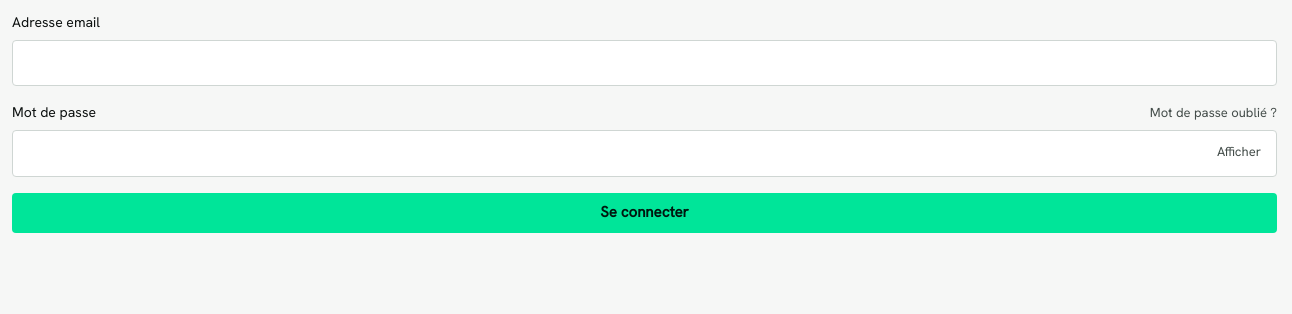
Test: LoginForm › affiche le message traduit quand les identifiants sont faux
Type "aminata.ouedraogo@example.com" into the field labelled "Adresse email".
click(644, 63); type("aminata.ouedraogo@example.com")  # box [12, 40, 1277, 86]
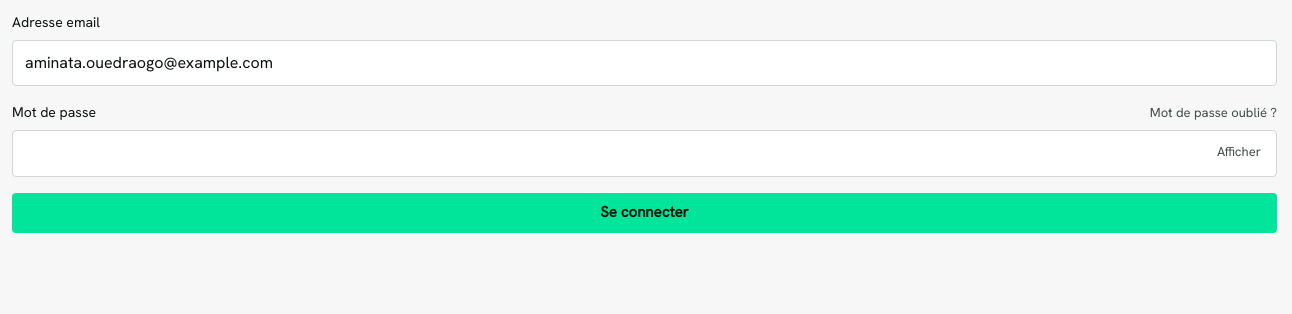
Type "faux-mot-de-passe1" into the password field labelled "Mot de passe".
click(644, 154); type("faux-mot-de-passe1")  # box [12, 130, 1277, 177]
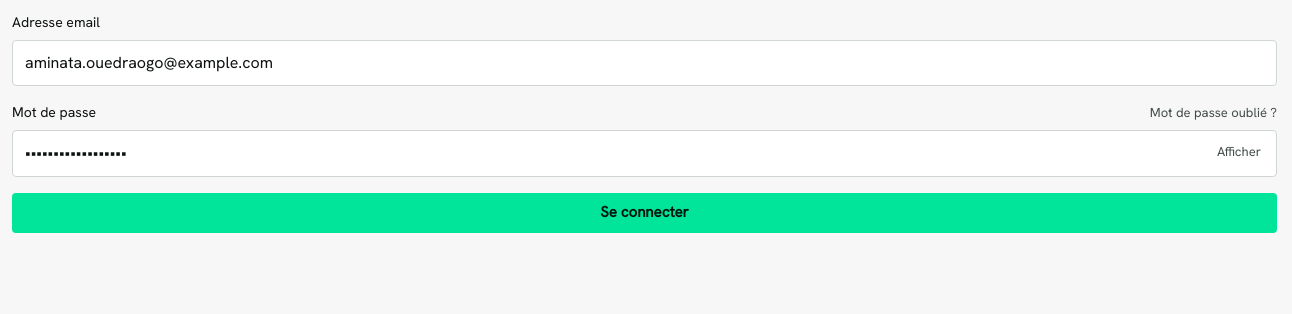
Click the button "Se connecter".
click(644, 213)  # box [12, 193, 1277, 233]
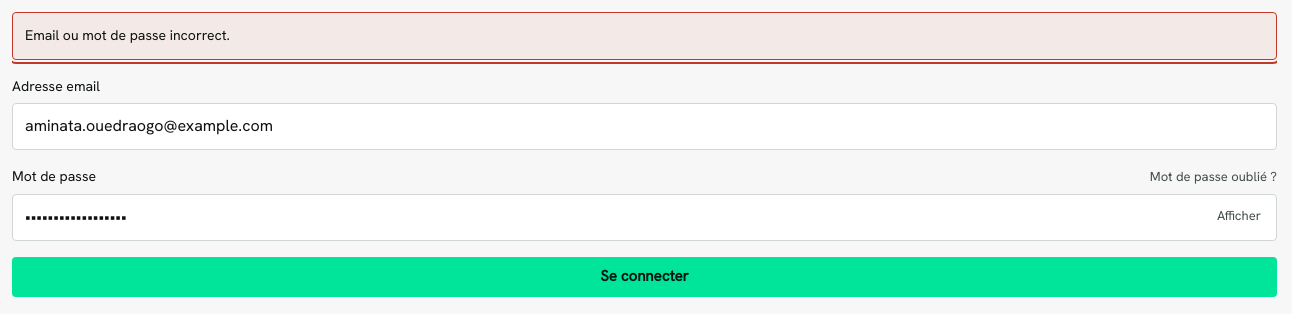
Now the message reads "Email ou mot de passe incorrect.", box [25, 26, 230, 44]
